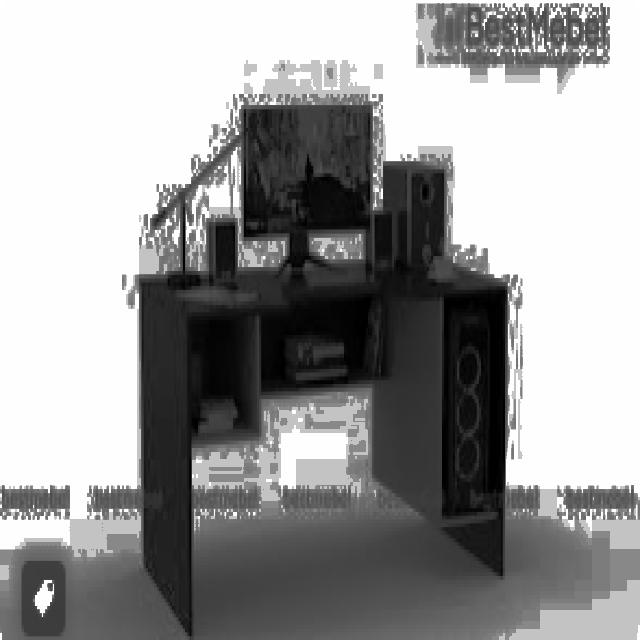table: (140, 256, 508, 636)
